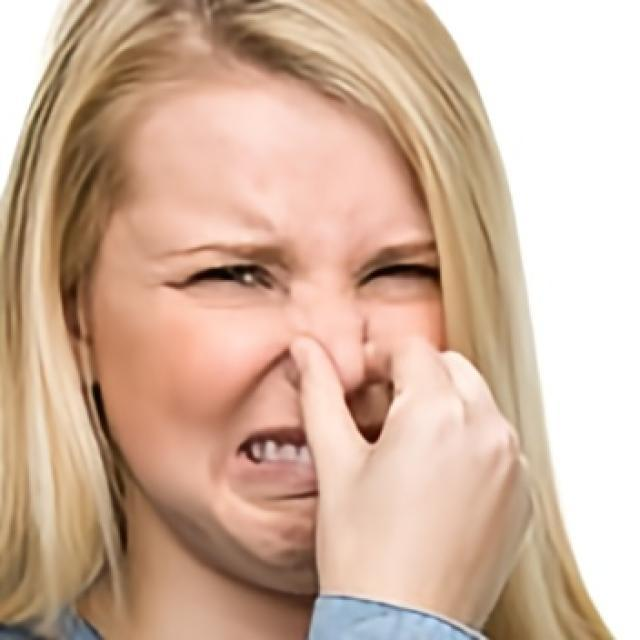disgust: (90, 60, 448, 594)
